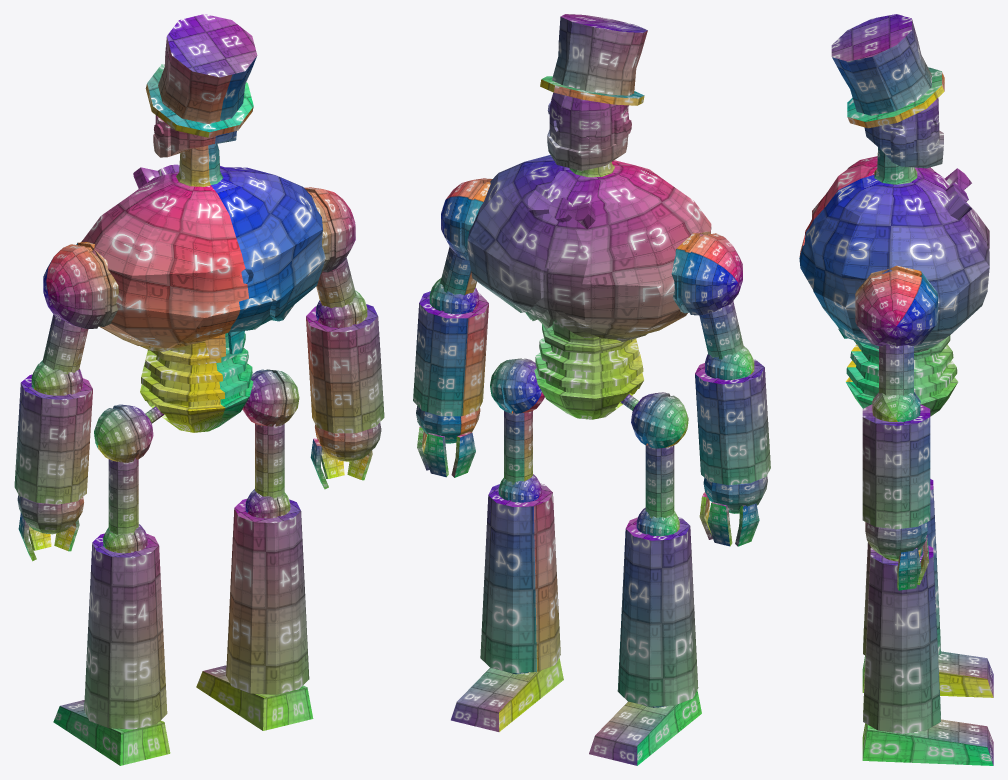
Rendered from New Robot Model v7 (Export).fbx.
3 views of the same model, side by side, from view 1: azimuth 30°, elevation 25°; view 2: azimuth 150°, elevation 25°; view 3: azimuth 270°, elevation 25° (orthographic). The views are drawn at different scales.
Visible parts, largest first — view 1: polySurface52; view 2: polySurface52; view 3: polySurface52.
Part boxes in pixels (x1=…): polySurface52: x1=14, y1=14, x2=384, y2=765; polySurface52: x1=413, y1=14, x2=770, y2=765; polySurface52: x1=799, y1=14, x2=993, y2=765.
Size of the model in its own units: 3.99 by 7.54 by 1.91.
Materials: 1 (1 with a texture image).
